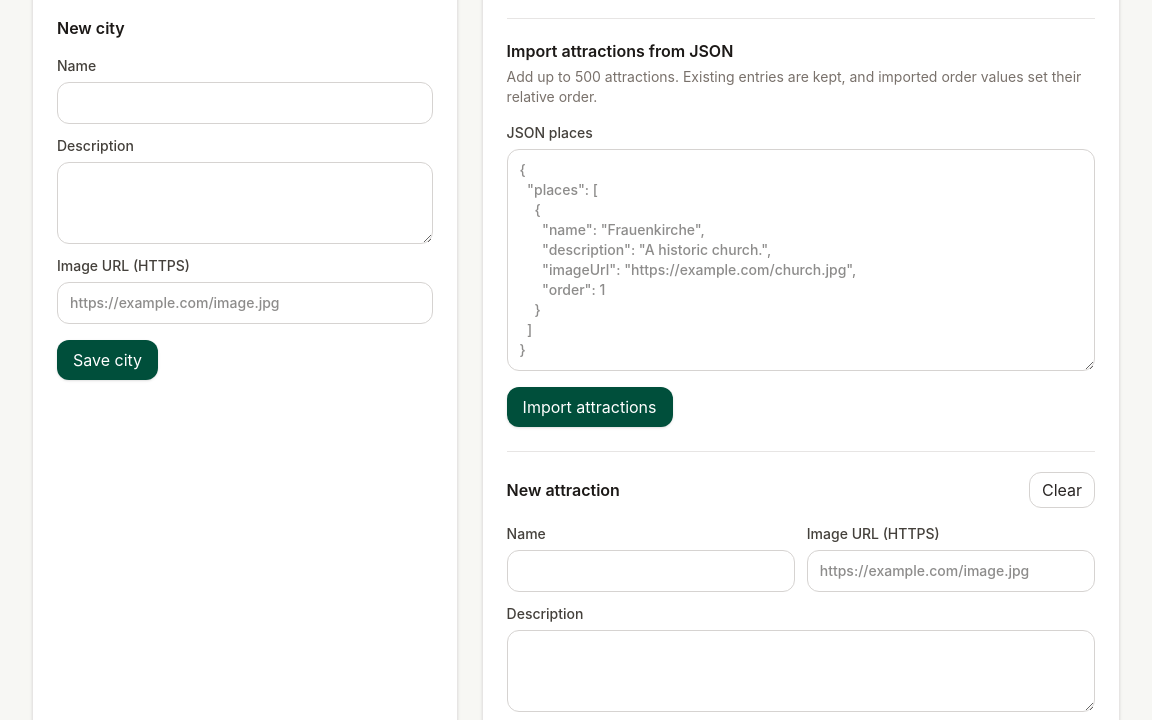
Test case: AdminPage authorization › validates a blank city name before writing
(page scrolled)
Click the button "Save city": x=108, y=360 [57,340,158,380]
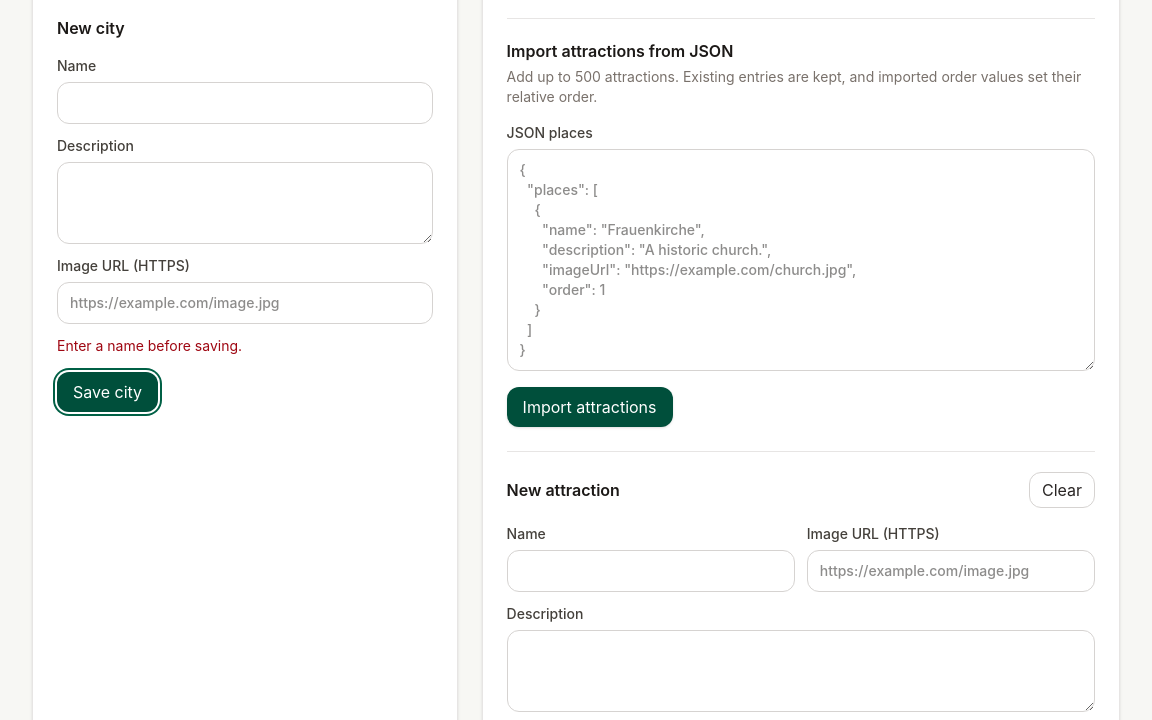
Expected: the text "Enter a name before saving." is shown, [57,337,242,354]
